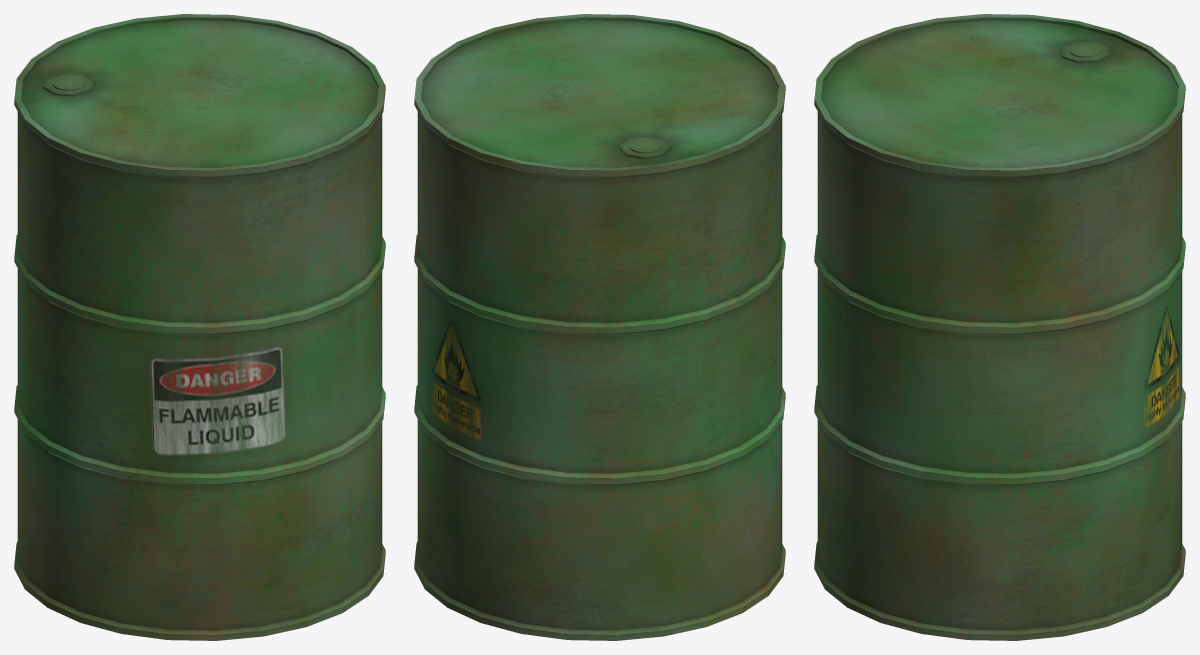
File: OilBarrels.fbx
3 renders of one model, left to right at view 1: azimuth 30°, elevation 25°; view 2: azimuth 150°, elevation 25°; view 3: azimuth 270°, elevation 25°, orthographic.
Parts seen in each view (by area): view 1: Barrel04_1; view 2: Barrel04_1; view 3: Barrel04_1.
Part boxes in pixels (x1,y1,x2,y2): Barrel04_1: (14, 14, 385, 640); Barrel04_1: (414, 14, 785, 640); Barrel04_1: (814, 14, 1185, 640).
Bounding box in the file's own units: 0.5579 × 0.78 × 0.5579.
